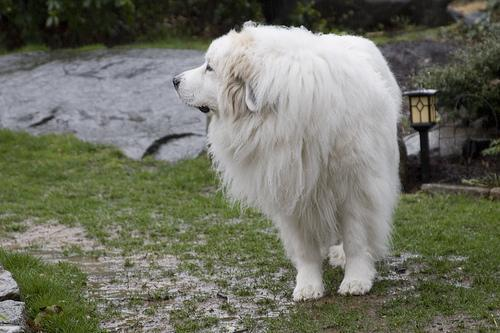Great_Pyrenees: (170, 20, 405, 303)
